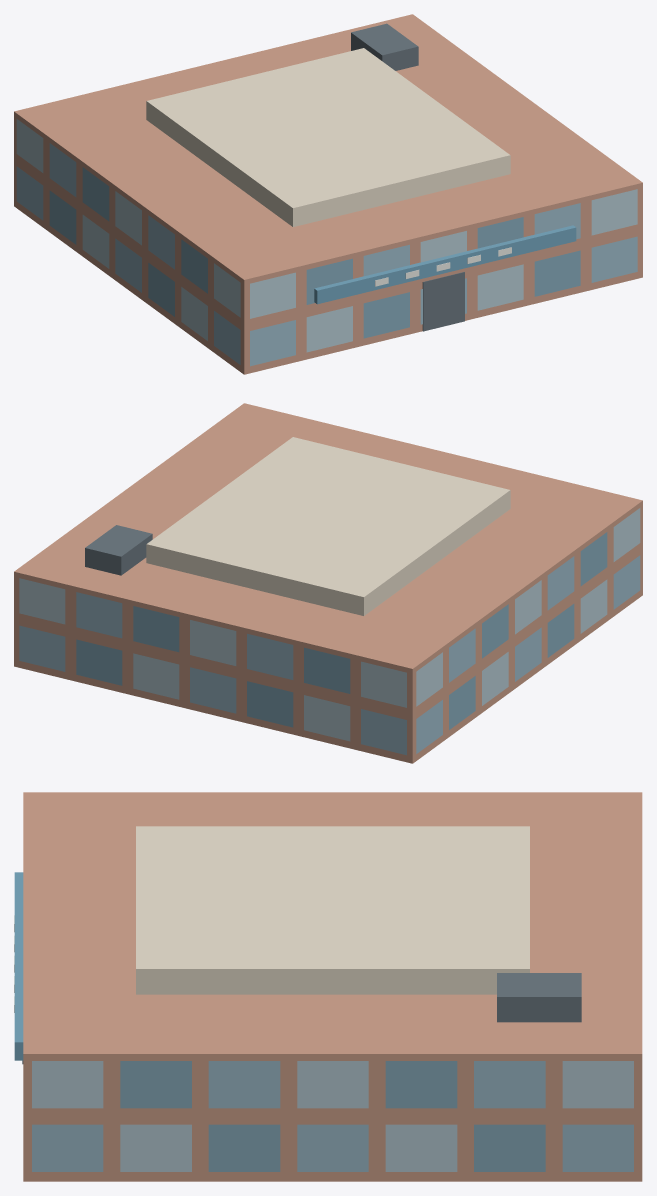
File: korea-building-4.glb
3 renders of one model, top to bottom at view 1: azimuth 30°, elevation 25°; view 2: azimuth 150°, elevation 25°; view 3: azimuth 270°, elevation 25°, orthographic. The views are drawn at different scales.
Bounding box in the file's own units: 11.02 × 3 × 11.18.
